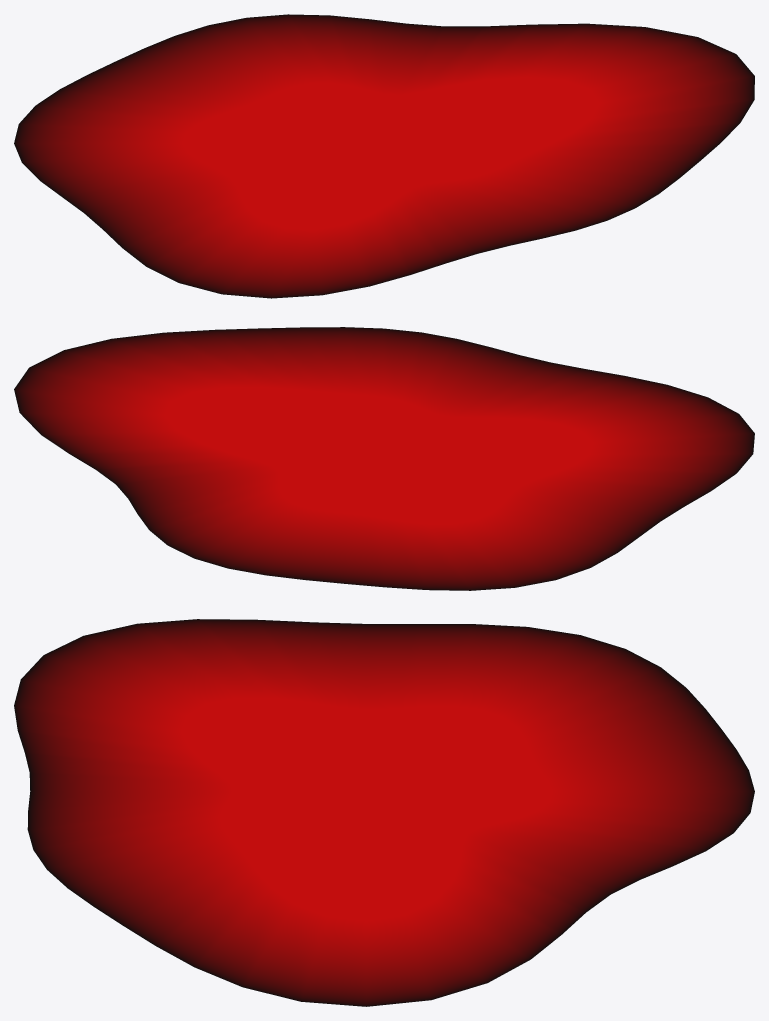
The model's file is enfeite_agua_da_fazenda.glb.
The picture shows the model from 3 angles, top to bottom: view 1: azimuth 30°, elevation 25°; view 2: azimuth 150°, elevation 25°; view 3: azimuth 270°, elevation 25°; orthographic projection. The views are drawn at different scales.
Visible parts, largest first — view 1: enfeite_agua_da_fazenda; view 2: enfeite_agua_da_fazenda; view 3: enfeite_agua_da_fazenda.
Boxes of the visible parts, left/top/right/bottom form: enfeite_agua_da_fazenda: left=14, top=14, right=754, bottom=298; enfeite_agua_da_fazenda: left=14, top=327, right=754, bottom=590; enfeite_agua_da_fazenda: left=14, top=619, right=754, bottom=1006.
Size of the model in its own units: 4.05 by 0 by 3.27.
